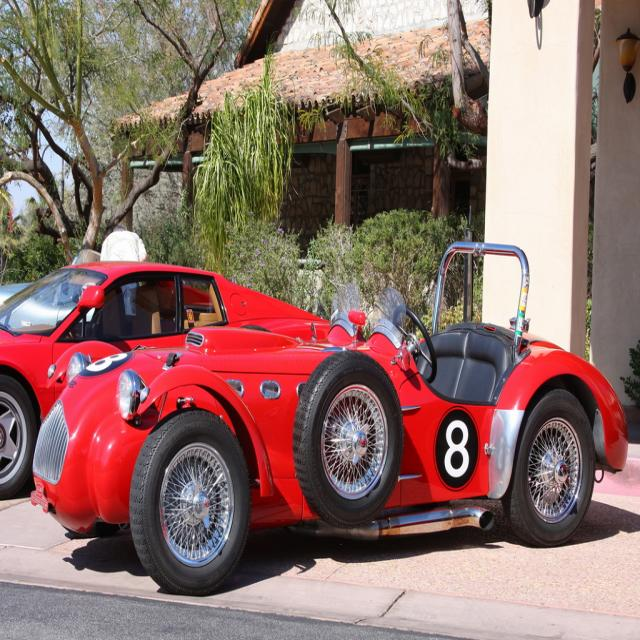car: (28, 241, 625, 596)
